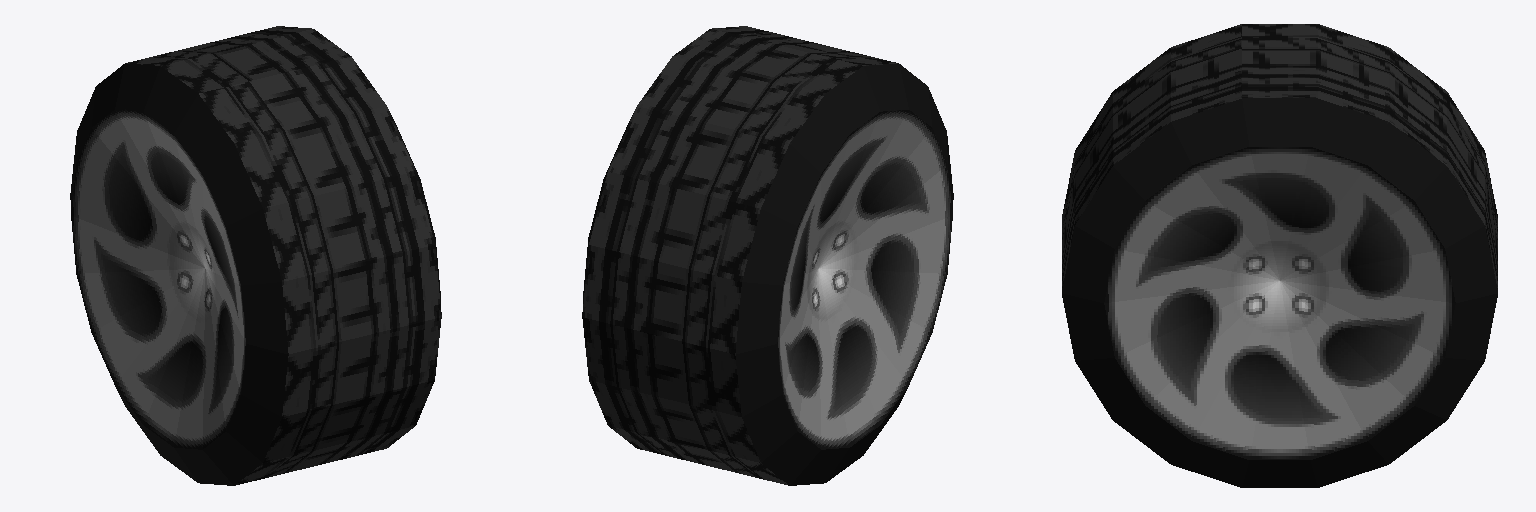
The picture shows the model from 3 angles: view 1: azimuth 30°, elevation 25°; view 2: azimuth 150°, elevation 25°; view 3: azimuth 270°, elevation 25°; orthographic projection.
Parts seen in each view (by area): view 1: wheel_Cylinder01x; view 2: wheel_Cylinder01x; view 3: wheel_Cylinder01x.
Boxes of the visible parts, x1=… form: wheel_Cylinder01x: x1=70, y1=26, x2=441, y2=485; wheel_Cylinder01x: x1=582, y1=26, x2=953, y2=485; wheel_Cylinder01x: x1=1062, y1=24, x2=1497, y2=487.
Size of the model in its own units: 30.68 by 58.78 by 59.69.
1 materials, 1 textured.